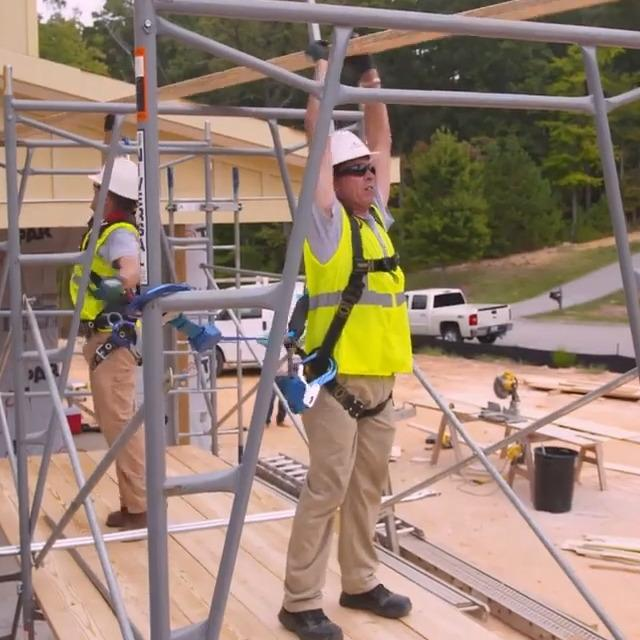Gloves: (346, 33, 376, 76), (93, 276, 126, 302), (305, 36, 331, 62), (104, 114, 116, 132)
Hardhat: (85, 156, 138, 200), (331, 129, 378, 166)
Ladder: (256, 449, 425, 544)
NO-Mask: (343, 179, 378, 207), (90, 193, 98, 210)
Person: (276, 33, 413, 640), (72, 112, 153, 544)
Safety Vest: (303, 207, 416, 377), (68, 220, 140, 331)
vehicle: (209, 280, 307, 374), (405, 288, 513, 345)
